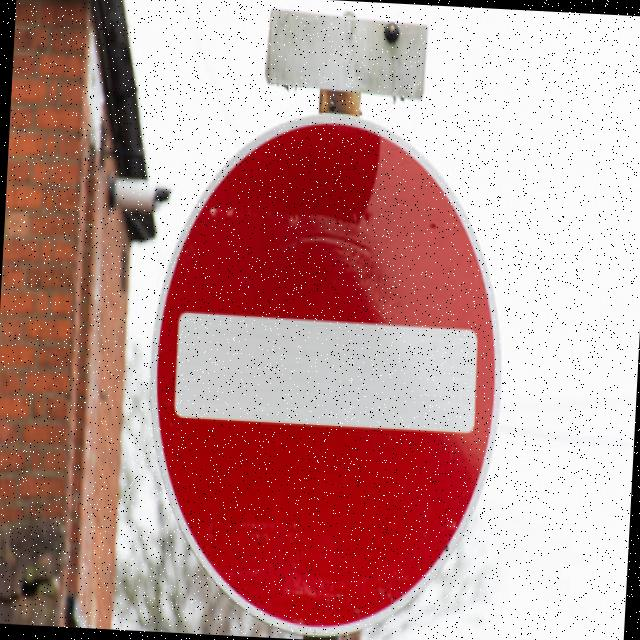do_not_enter: (134, 95, 517, 640)
